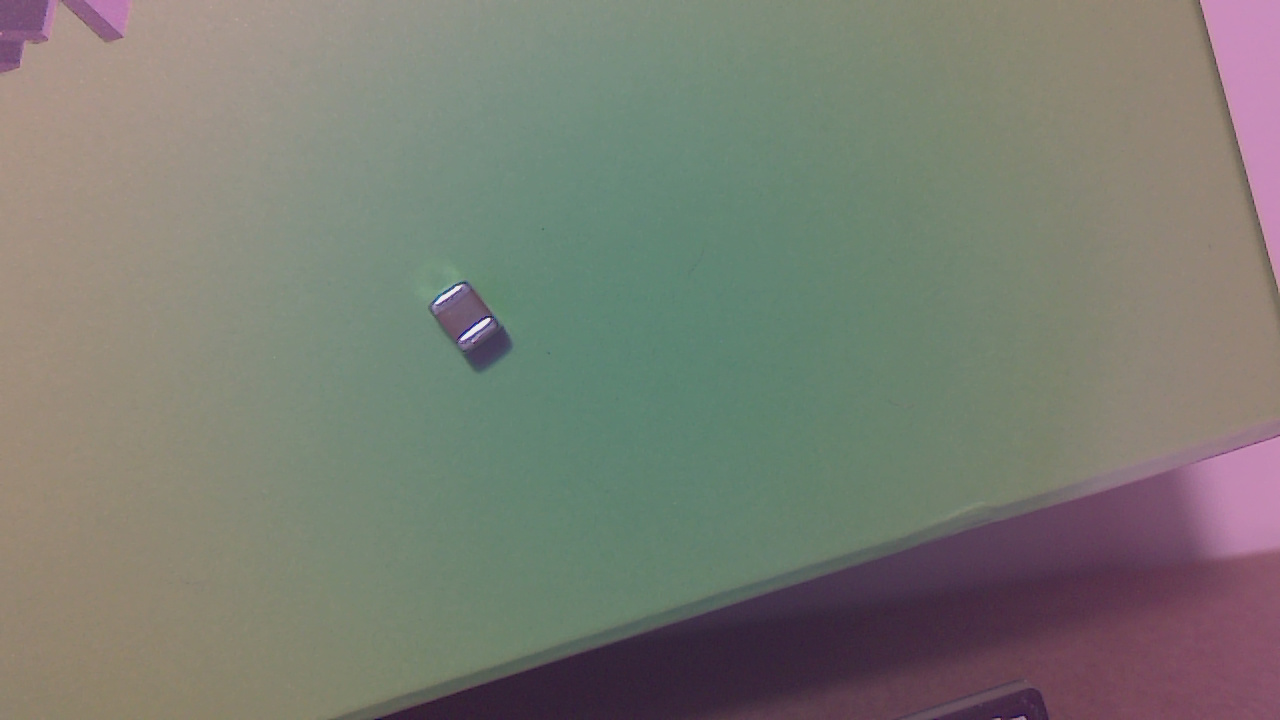Condensator: (432, 282, 502, 362)
